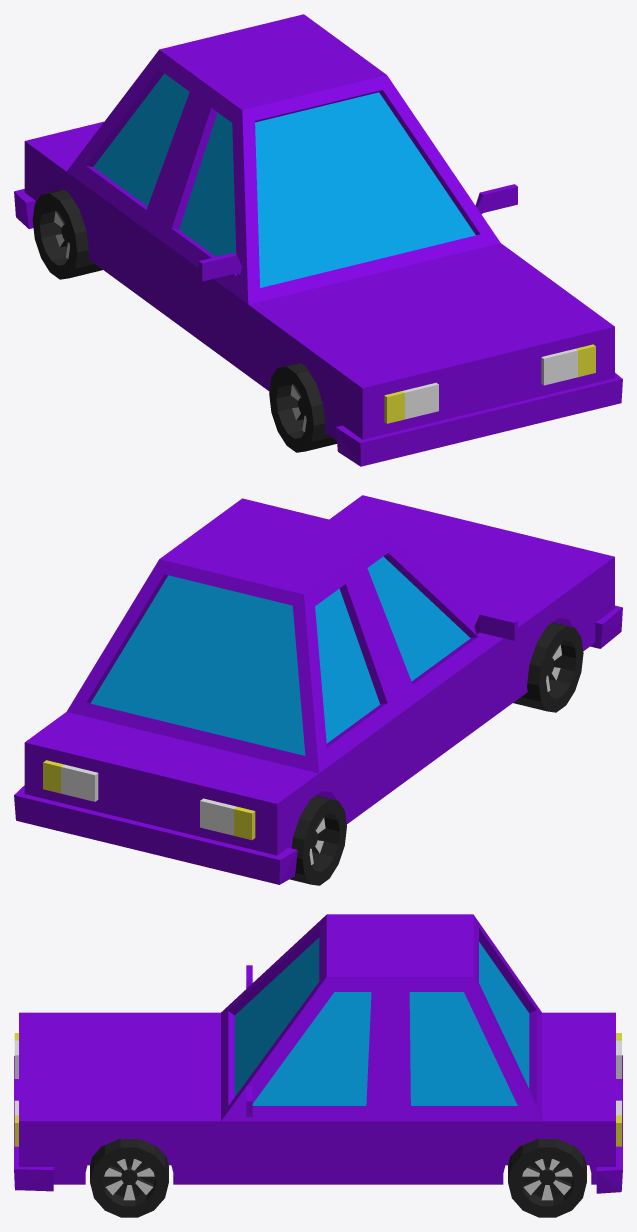
Rendered from Car.fbx.
3 views of the same model, one above another, from view 1: azimuth 30°, elevation 25°; view 2: azimuth 150°, elevation 25°; view 3: azimuth 270°, elevation 25° (orthographic). The views are drawn at different scales.
Visible parts, largest first — view 1: Cube, Cylinder.001, Cylinder.003, Cube.001, Cube.003; view 2: Cube, Cylinder.001, Cylinder.003, Cube.002, Cube.003; view 3: Cube, Cylinder.001, Cylinder.003, Cube.002, Cube.001.
Boxes of the visible parts, x1=… form: Cube: x1=14, y1=14, x2=622, y2=466; Cylinder.001: x1=269, y1=362, x2=337, y2=452; Cylinder.003: x1=32, y1=189, x2=102, y2=279; Cube.001: x1=384, y1=344, x2=595, y2=423; Cube.003: x1=198, y1=184, x2=517, y2=281; Cube: x1=14, y1=495, x2=622, y2=884; Cylinder.001: x1=513, y1=622, x2=583, y2=712; Cylinder.003: x1=290, y1=795, x2=346, y2=885; Cube.002: x1=43, y1=760, x2=255, y2=839; Cube.003: x1=474, y1=612, x2=517, y2=640; Cube: x1=14, y1=914, x2=622, y2=1193; Cylinder.001: x1=90, y1=1139, x2=168, y2=1217; Cylinder.003: x1=508, y1=1139, x2=586, y2=1217; Cube.002: x1=616, y1=1033, x2=621, y2=1146; Cube.001: x1=14, y1=1033, x2=18, y2=1146.
Bounding box in the file's own units: 250 × 183 × 473.
